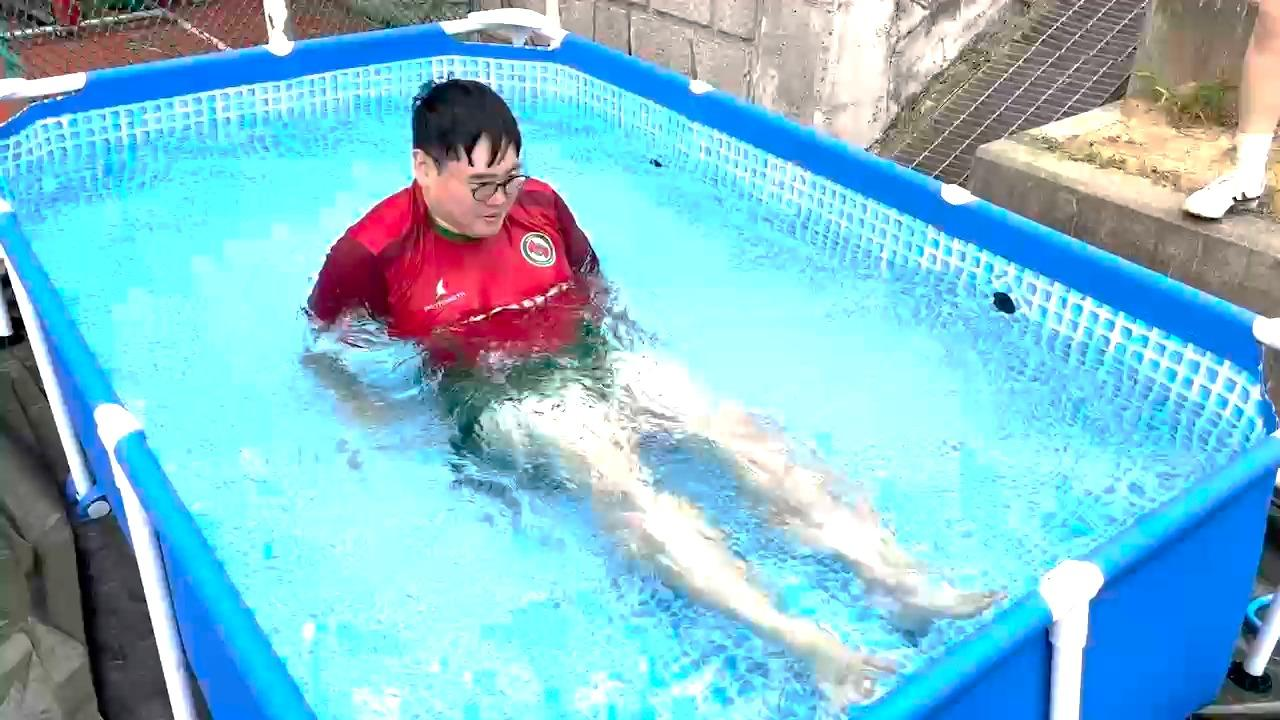Swimming: (252, 50, 985, 672)
